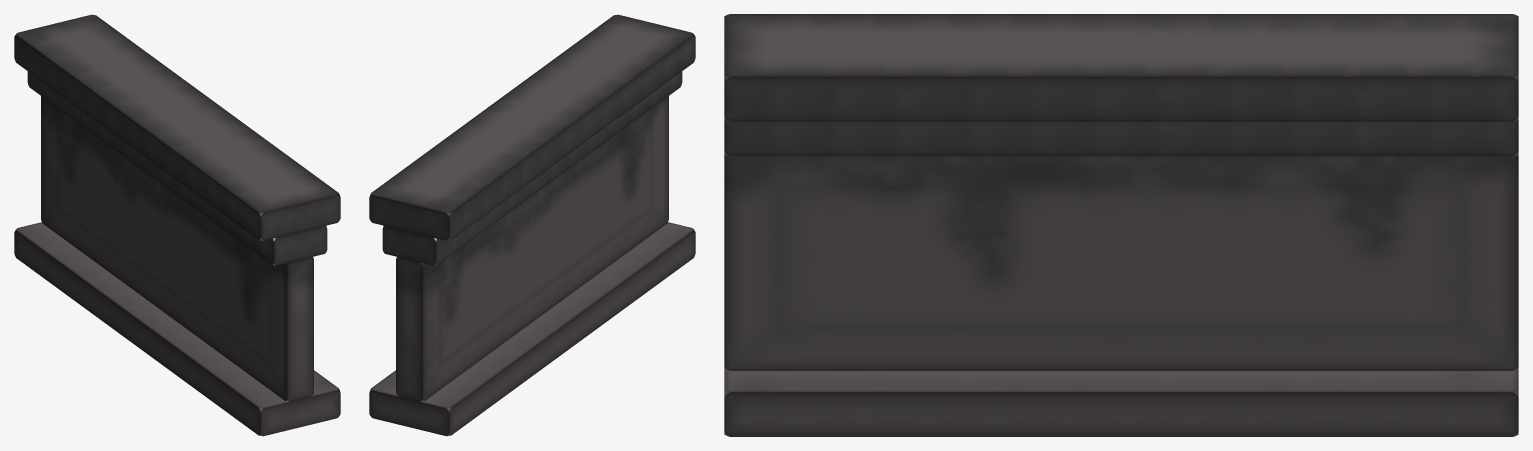
File: rail1.obj
The picture shows the model from 3 angles, left to right: view 1: azimuth 30°, elevation 25°; view 2: azimuth 150°, elevation 25°; view 3: azimuth 270°, elevation 25°; orthographic projection. The views are drawn at different scales.
Visible parts, largest first — view 1: cuboid; view 2: cuboid; view 3: cuboid.
Part boxes in pixels (x1,y1,x2,y2): cuboid: (14, 14, 340, 436); cuboid: (369, 14, 695, 436); cuboid: (724, 14, 1518, 436).
Size of the model in its own units: 0.1875 by 0.5 by 1.
1 material, 1 textured.
